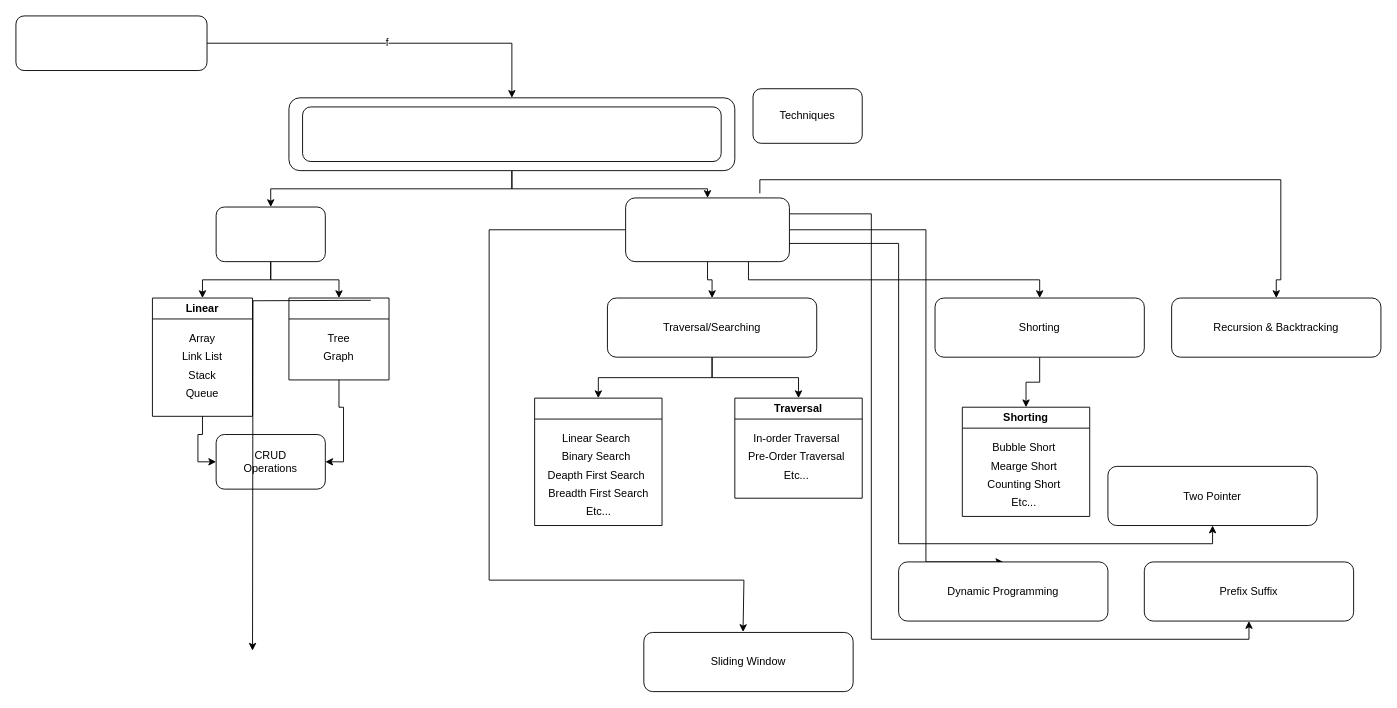
Image size: 1397x708. Some labels were removed from this diagram. The box of each missing label's shape, as (x1, y1, x2, y2) in pixels:
Any Programming Language: (15, 15, 207, 71)
Data Structures & Algorithms Roadmap: (302, 106, 721, 162)
DSA: (215, 206, 325, 262)
Interview Preperation: (625, 197, 789, 262)
Non-Linear: (288, 297, 389, 380)
Searching: (534, 397, 662, 526)
